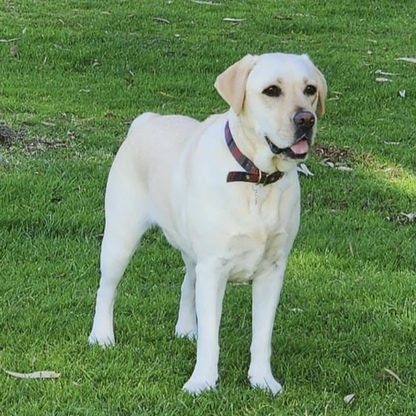labrado: (83, 43, 330, 400)
